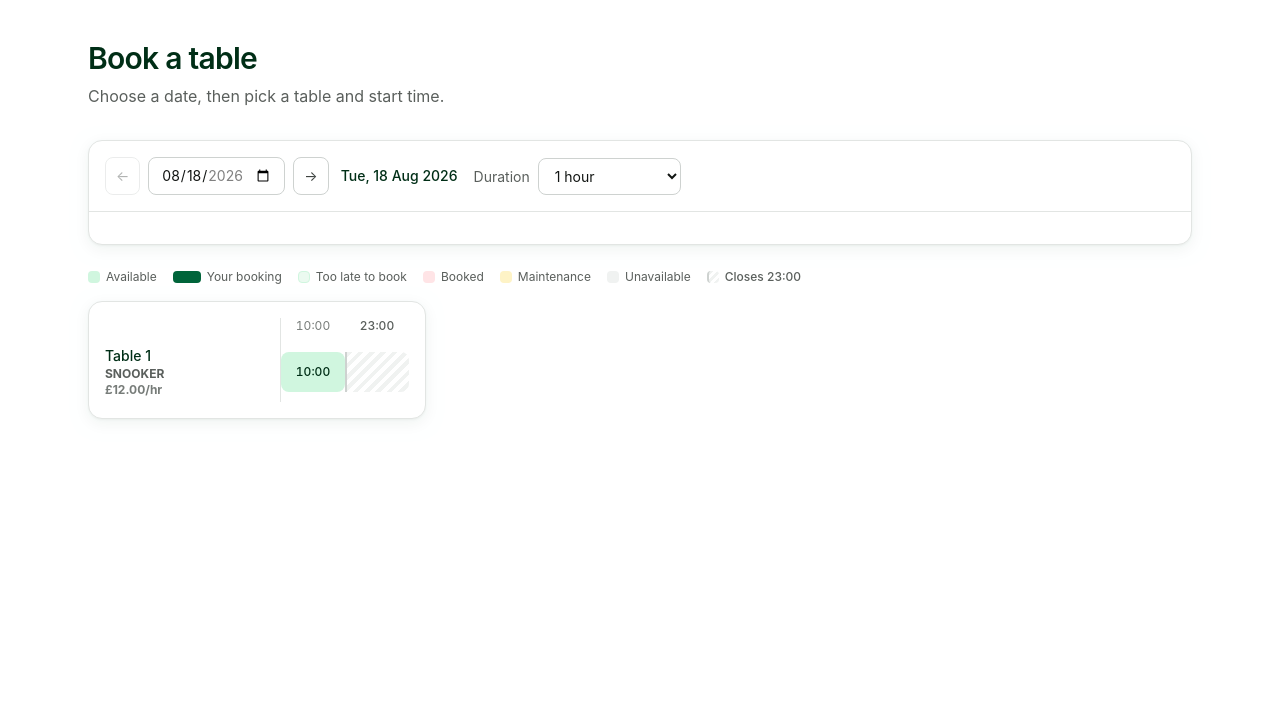
BookPage › drops the selection when the new duration no longer fits, and says why
This screenshot has width=1280, height=720.
Click the button "10:00" at point(313, 372), box [281,352,345,392]
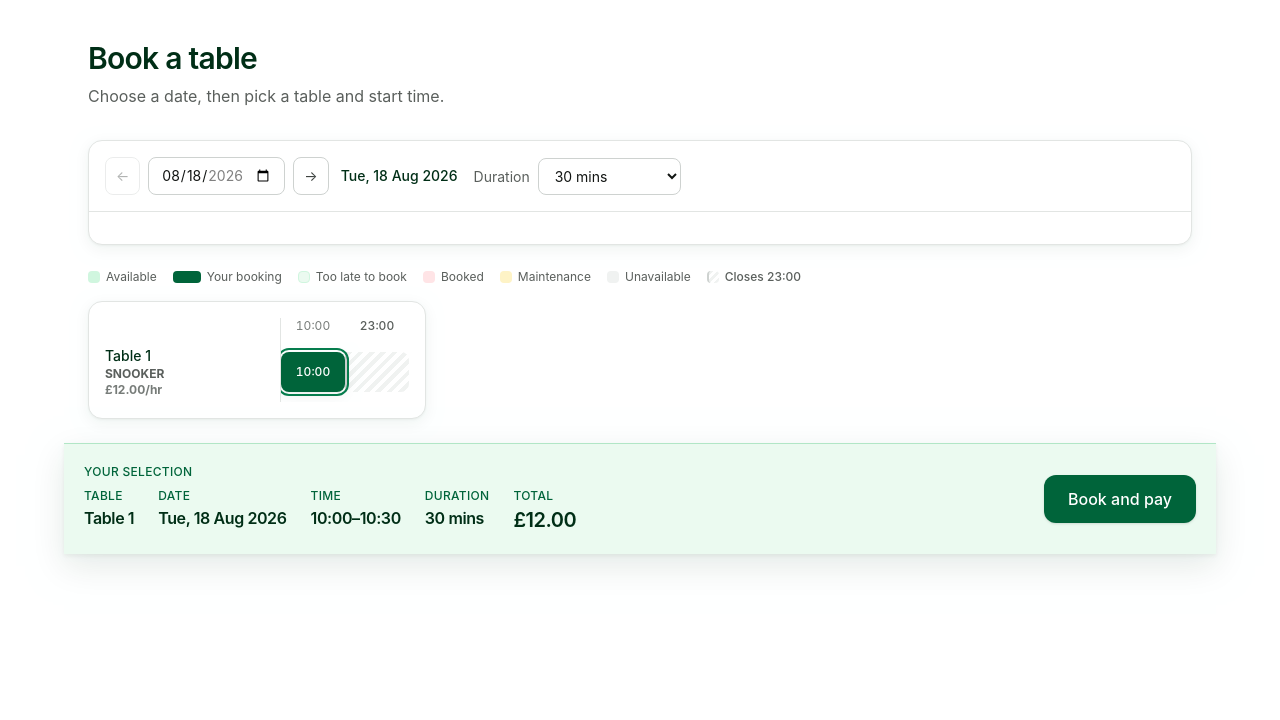
Select "1 hour" in the dropdown labelled "Duration" at point(609, 176), box [538,158,681,194]
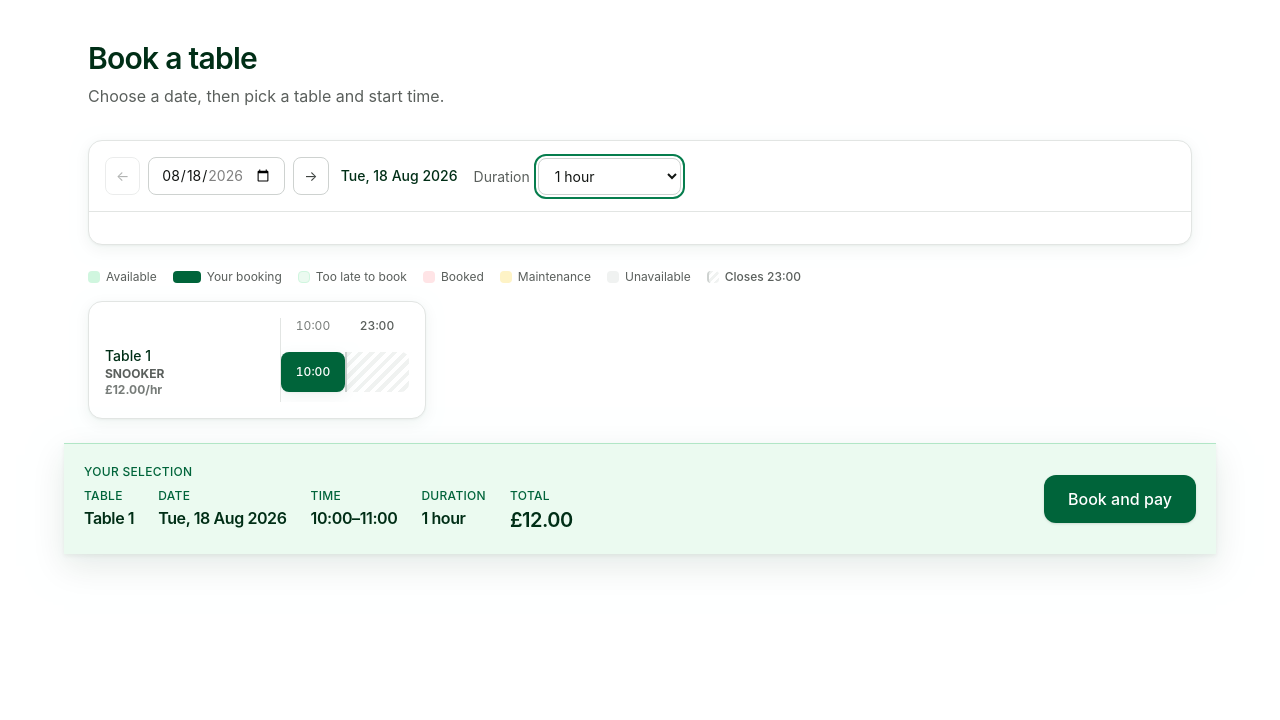
Check: the element that starts with "Your selection" is shown, box [64,443,1216,554]
Select "4 hours" in the dropdown labelled "Duration" at point(609, 176), box [538,158,681,194]
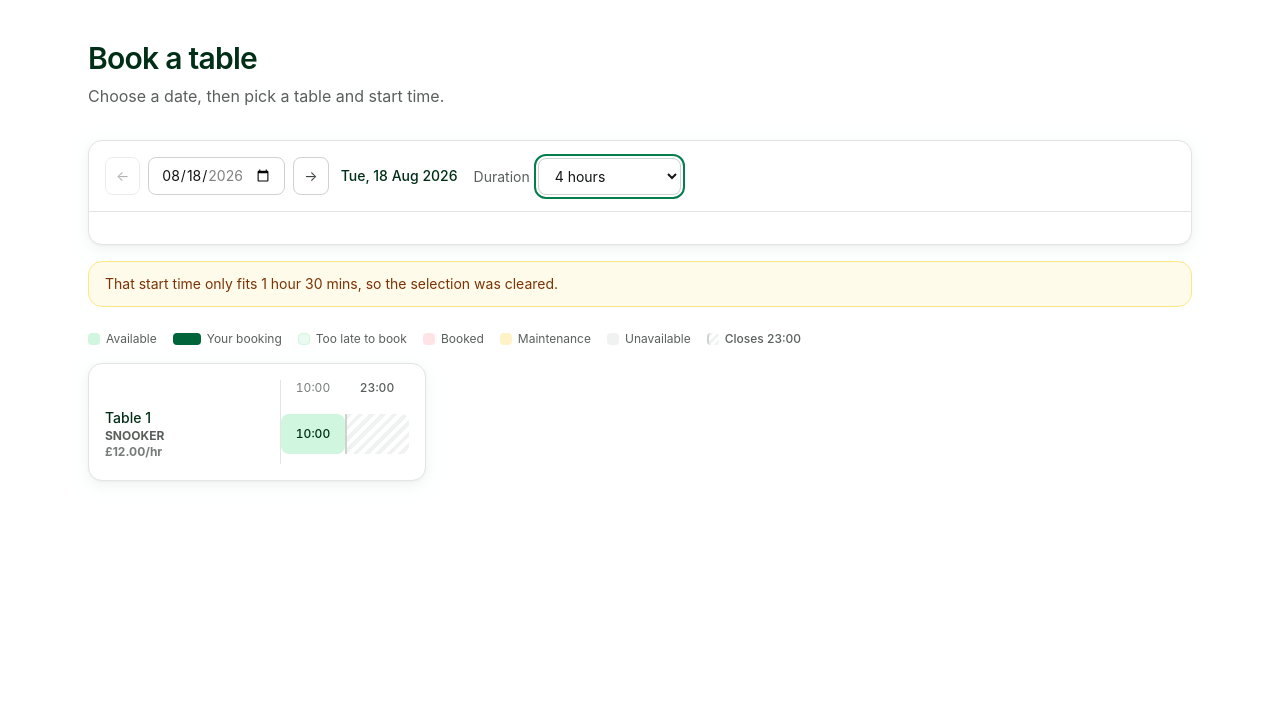
Check: the message shows "only fits 1 hour 30 mins", box [105,275,558,292]
